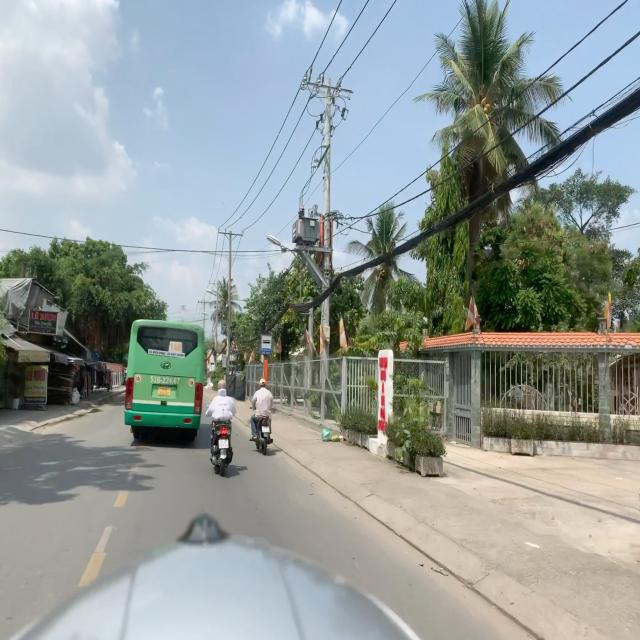Ben xe buyt: (261, 336, 272, 355)
